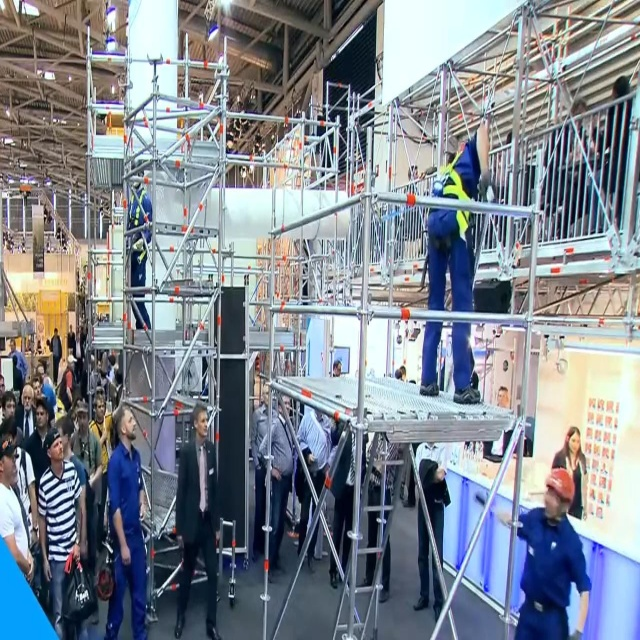Arnes_seguridad: (429, 154, 477, 251), (124, 189, 149, 257)
